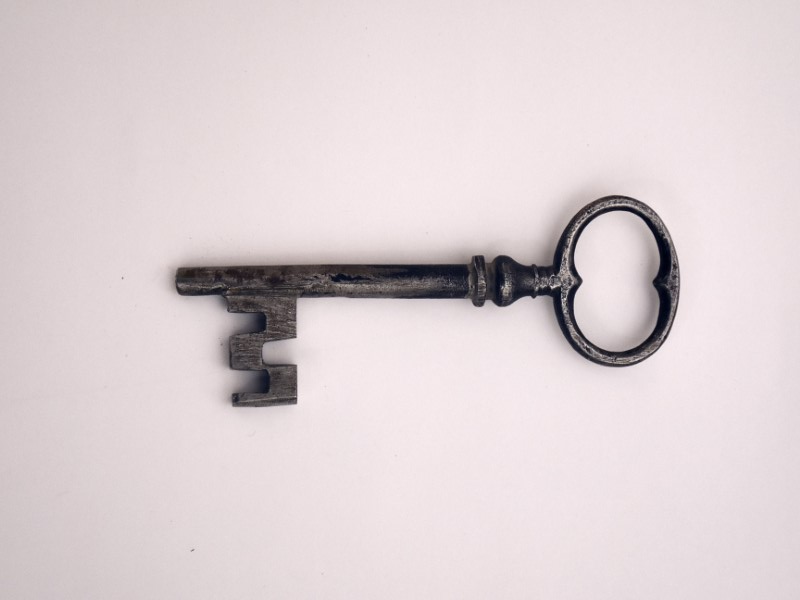key: (171, 189, 684, 414)
